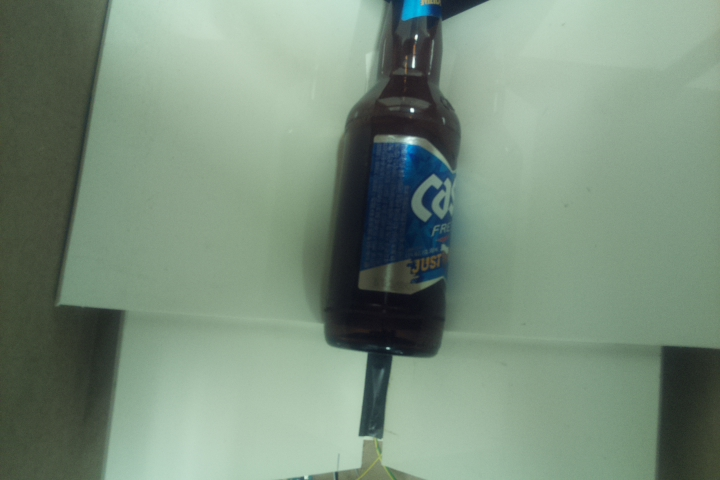makju: (322, 1, 464, 358)
